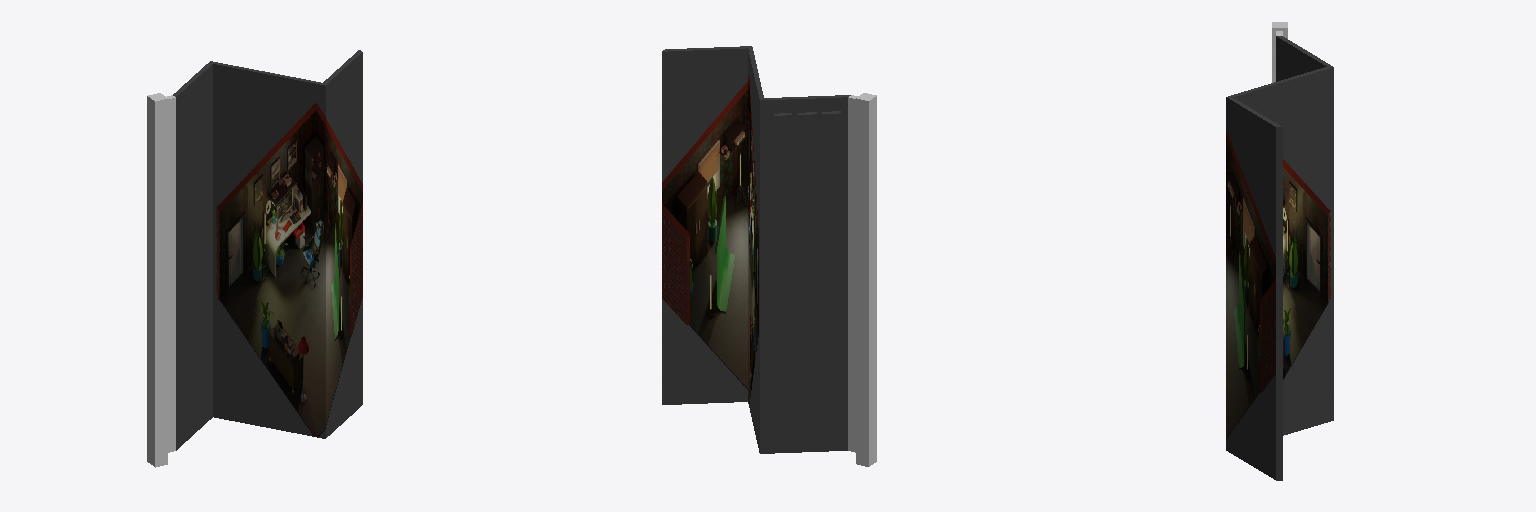
3 renders of one model, left to right at view 1: azimuth 30°, elevation 25°; view 2: azimuth 150°, elevation 25°; view 3: azimuth 270°, elevation 25°, orthographic.
Parts seen in each view (by area): view 1: Separator; view 2: Separator; view 3: Separator.
Part boxes in pixels (x1,y1,x2,y2): Separator: (147,50,362,467); Separator: (662,46,876,466); Separator: (1226,22,1333,480).
Size of the model in its own units: 1.2 by 2 by 0.5349.
2 materials, 1 textured.